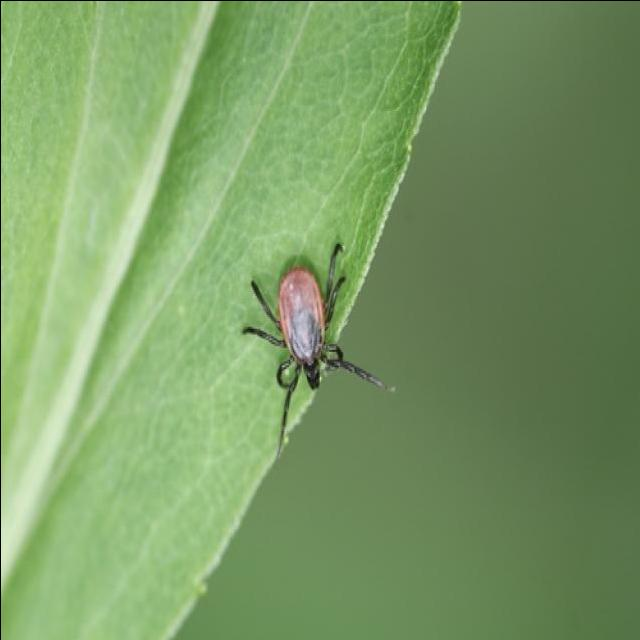Ixodes Ricinus-F: (241, 241, 394, 457)
